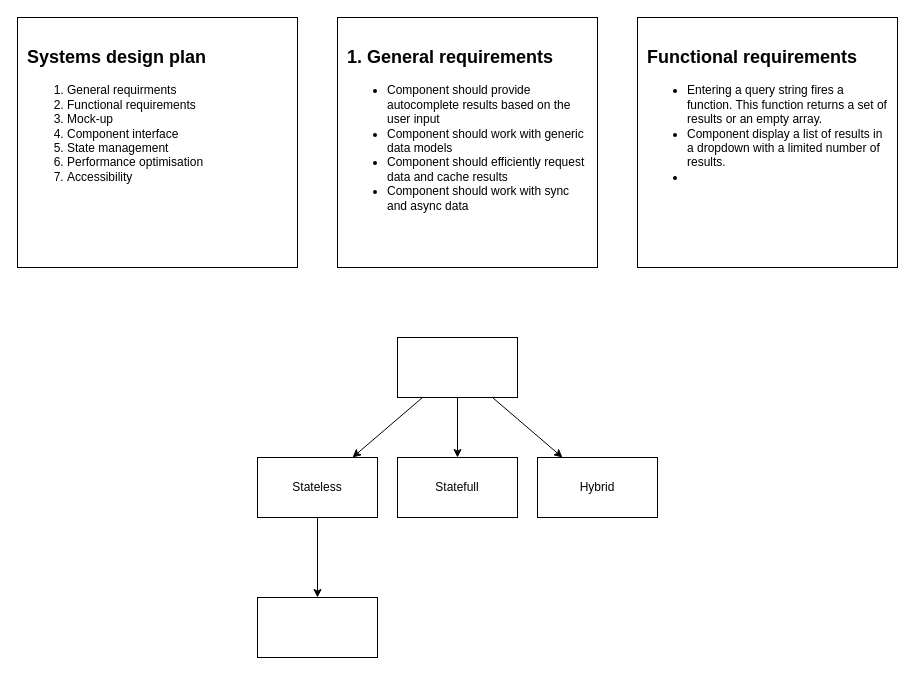
Some shapes in this 915 by 675 pixel diagram are drawn without their labels. Each missing label, with the centre of its shape:
"Architecture types" belongs at (457,367).
"Pros" belongs at (317,627).
